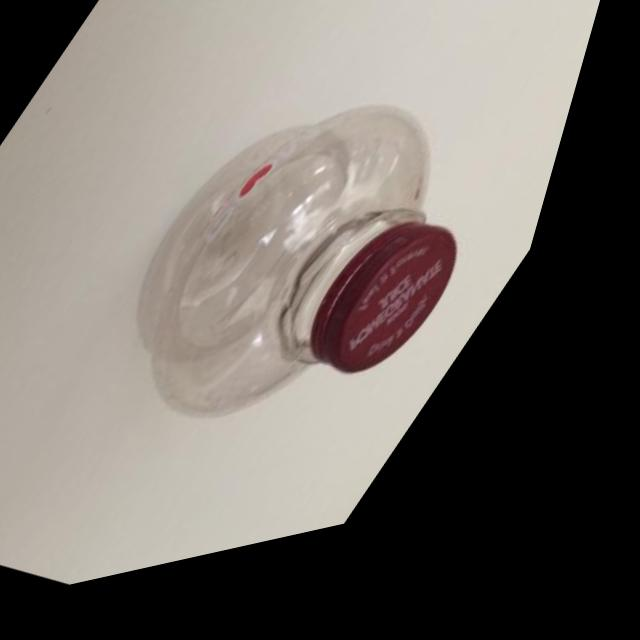plastic: (41, 15, 609, 553)
